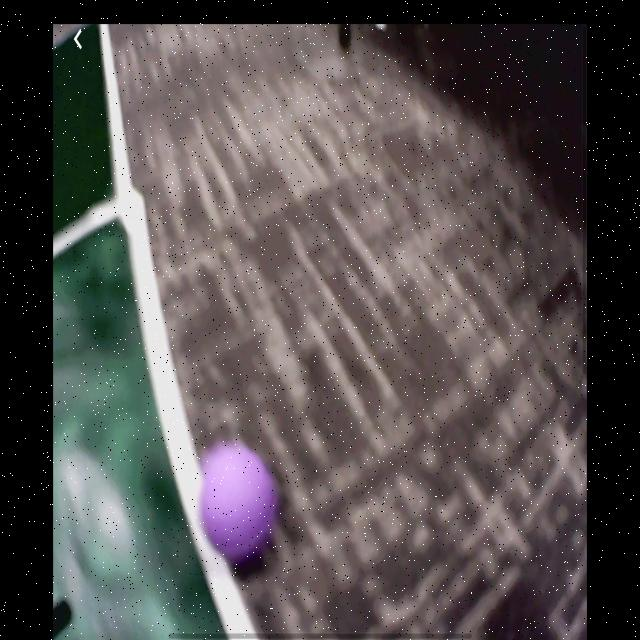ball: (199, 443, 279, 559)
